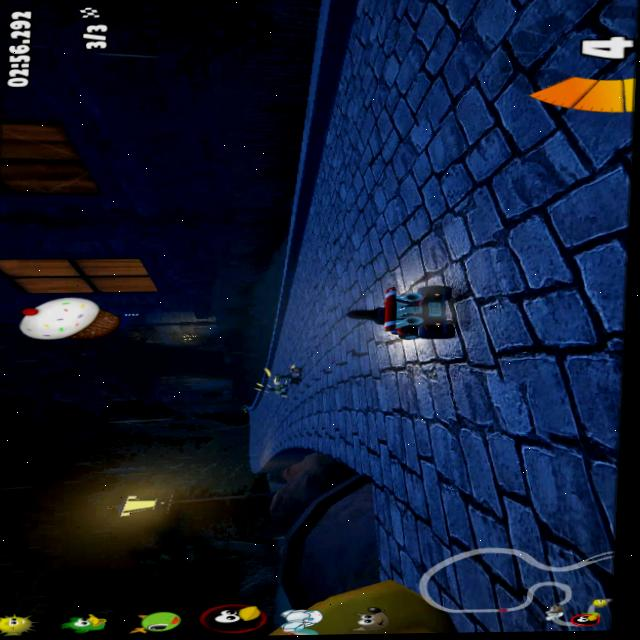enemy_kart: (275, 360, 310, 387), (266, 380, 282, 400)
player_kart: (351, 281, 464, 349)
track: (461, 0, 639, 633), (294, 0, 489, 282), (337, 346, 468, 458), (384, 456, 463, 575), (310, 280, 347, 445), (278, 278, 317, 358), (274, 389, 309, 445), (247, 404, 271, 467), (240, 413, 253, 432)
